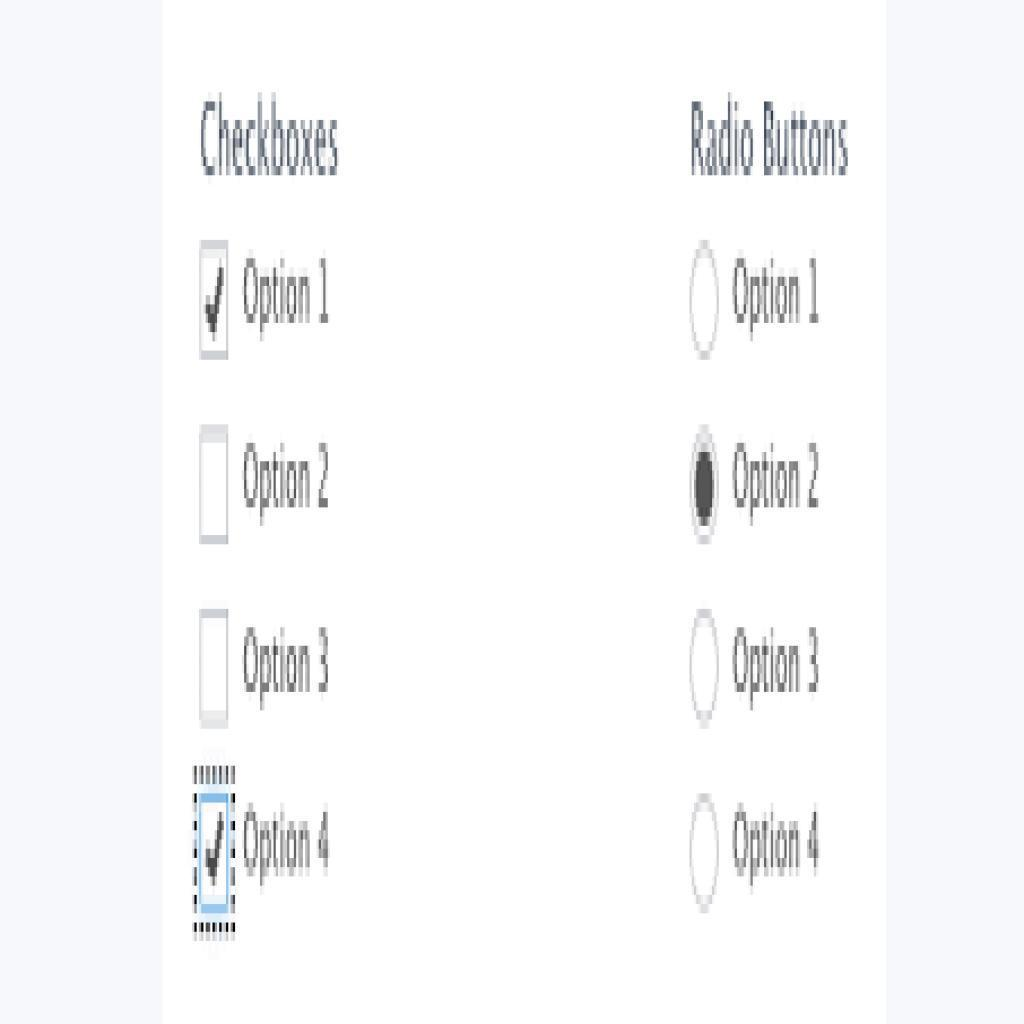checkbox: (195, 795, 232, 906), (197, 430, 231, 546), (198, 243, 231, 359), (198, 612, 232, 721)
radio: (685, 236, 723, 362), (687, 605, 724, 731), (687, 795, 726, 913), (689, 421, 724, 549)
